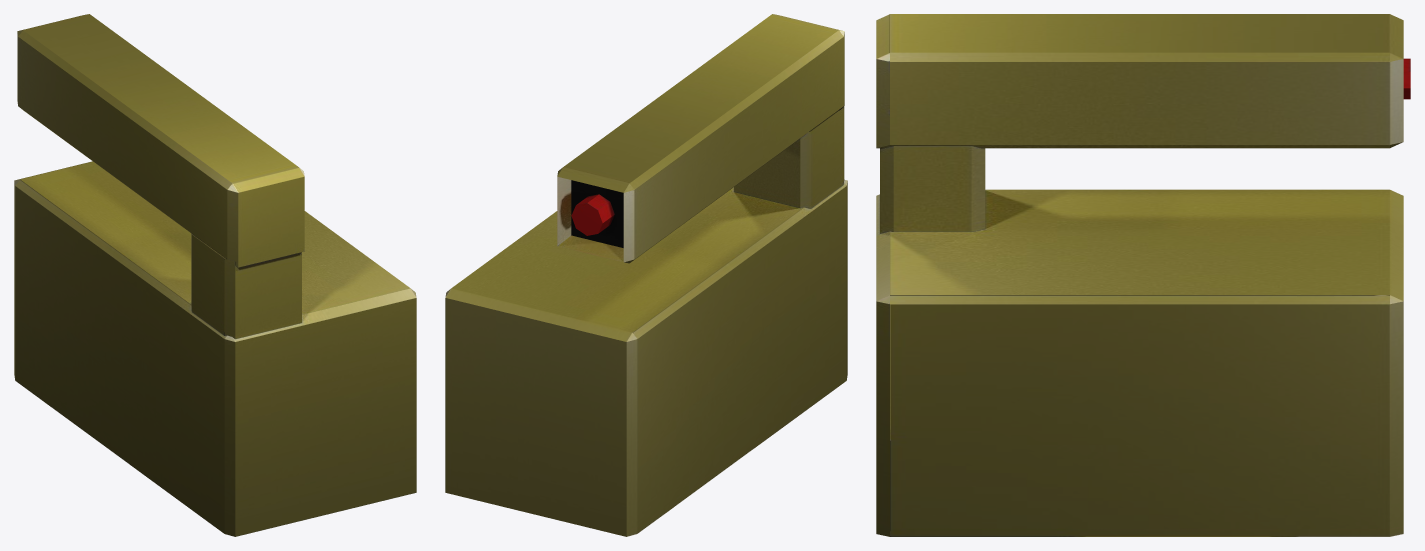
Rendered from homing5.dae.
3 views of the same model, side by side, from view 1: azimuth 30°, elevation 25°; view 2: azimuth 150°, elevation 25°; view 3: azimuth 270°, elevation 25° (orthographic). The views are drawn at different scales.
Parts seen in each view (by area): view 1: Cube; view 2: Cube; view 3: Cube.
Boxes of the visible parts, bbox=[...] form: Cube: bbox=[14, 14, 416, 536]; Cube: bbox=[445, 14, 847, 536]; Cube: bbox=[876, 14, 1410, 536].
Bounding box in the file's own units: 1 × 2.03 × 1.74.
1 material, 1 textured.
